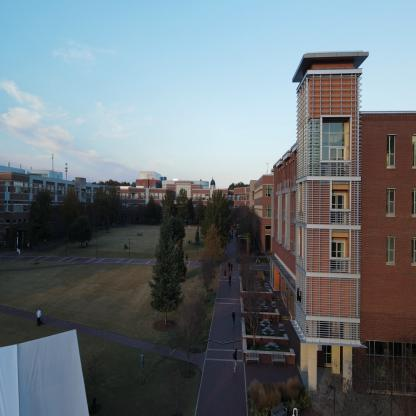Wolf Ridge: (273, 78, 415, 389)
